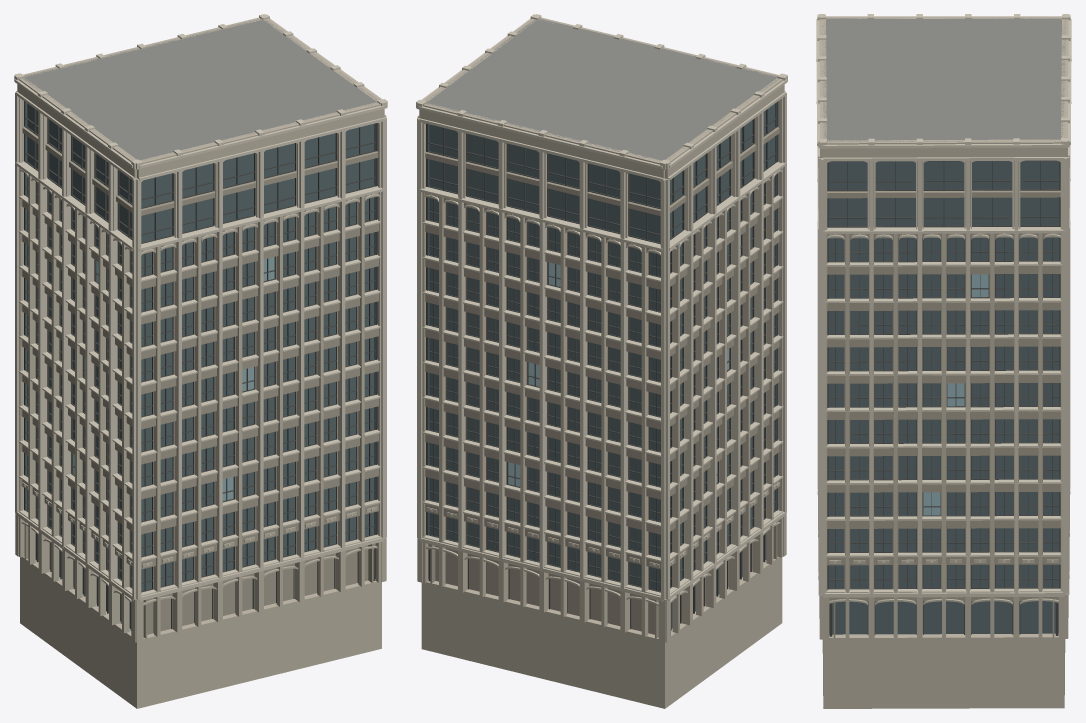
File: washington_309.glb
3 views of the same model, side by side, from view 1: azimuth 30°, elevation 25°; view 2: azimuth 150°, elevation 25°; view 3: azimuth 270°, elevation 25° (orthographic). The views are drawn at different scales.
Visible parts, largest first — view 1: Washington309 buff masonry, Washington309 pale carved trim, Washington309 recessed glass, Washington309 recessed masonry, Washington309 opaque roof, Washington309 dark physical sash, Night Washington309 occupied windows; view 2: Washington309 buff masonry, Washington309 pale carved trim, Washington309 recessed glass, Washington309 recessed masonry, Washington309 opaque roof, Washington309 dark physical sash, Night Washington309 occupied windows; view 3: Washington309 recessed glass, Washington309 buff masonry, Washington309 pale carved trim, Washington309 opaque roof, Washington309 recessed masonry, Washington309 dark physical sash, Night Washington309 occupied windows.
Part boxes in pixels (x1,y1,x2,y2): Washington309 buff masonry: (15, 17, 386, 708); Washington309 pale carved trim: (14, 14, 387, 601); Washington309 recessed glass: (25, 102, 375, 628); Washington309 recessed masonry: (21, 118, 378, 638); Washington309 opaque roof: (22, 18, 377, 160); Washington309 dark physical sash: (24, 101, 377, 632); Night Washington309 occupied windows: (73, 257, 274, 500); Washington309 buff masonry: (417, 17, 786, 708); Washington309 pale carved trim: (416, 14, 787, 601); Washington309 recessed glass: (427, 102, 776, 628); Washington309 recessed masonry: (425, 127, 780, 638); Washington309 opaque roof: (425, 18, 779, 161); Washington309 dark physical sash: (426, 101, 778, 632); Night Washington309 occupied windows: (508, 235, 740, 486); Washington309 recessed glass: (828, 161, 1059, 636); Washington309 buff masonry: (819, 16, 1068, 708); Washington309 pale carved trim: (816, 14, 1071, 597); Washington309 opaque roof: (822, 18, 1065, 141); Washington309 recessed masonry: (827, 161, 1060, 637); Washington309 dark physical sash: (827, 160, 1060, 636); Night Washington309 occupied windows: (923, 274, 988, 515).
Bounding box in the file's own units: 31.35 × 64.17 × 26.15.
